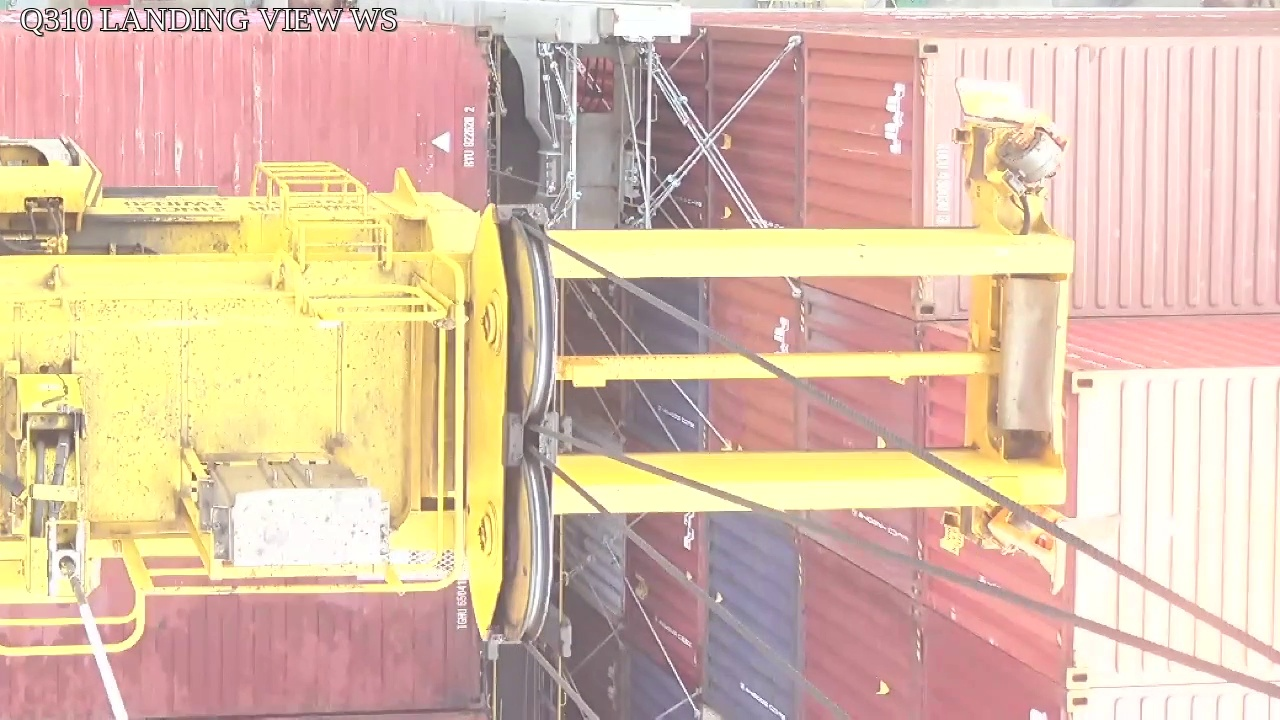right: (462, 202, 562, 658)
